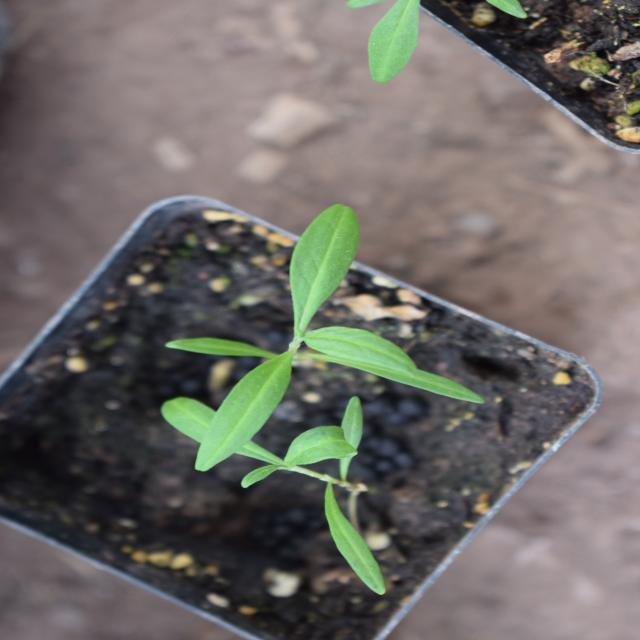white_smart_weed: (169, 149, 440, 472)
